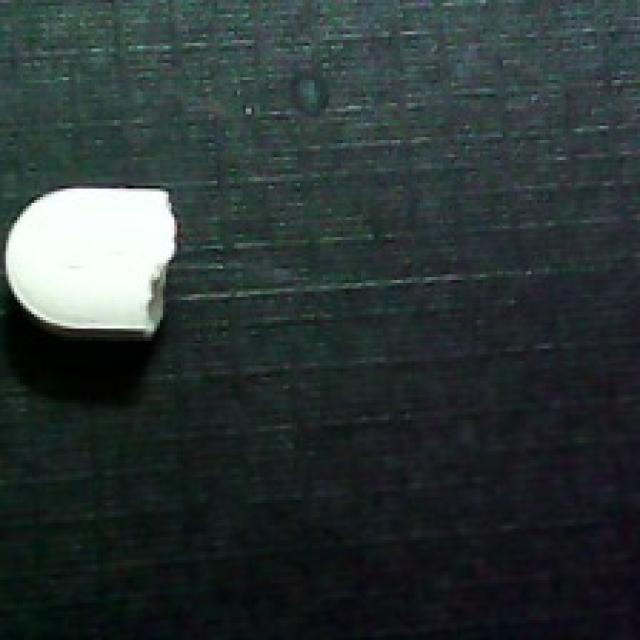defected: (0, 177, 186, 374)
